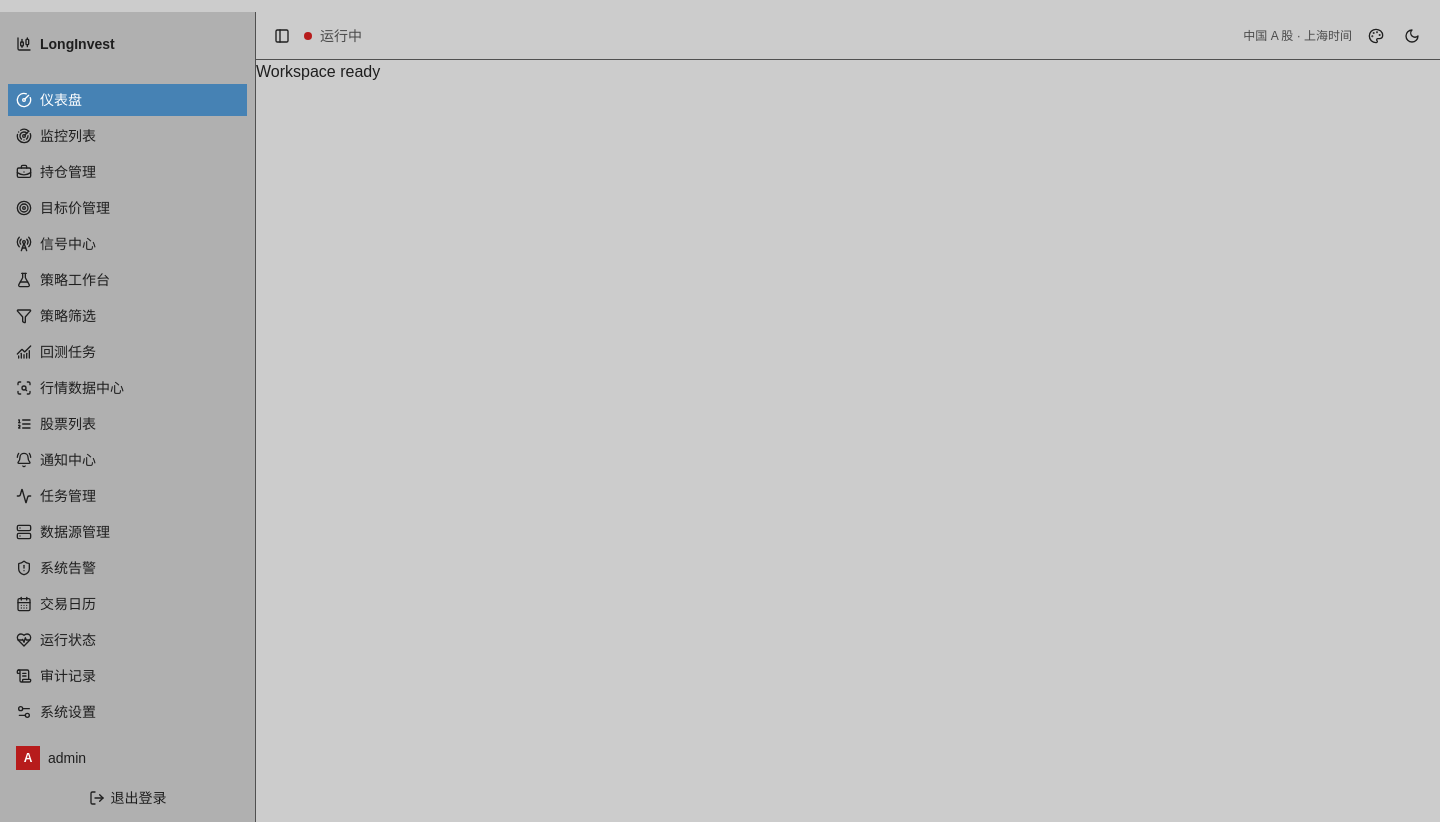
Scenario: 登录和会话启动 › 有效会话直接进入工作台，并可退出
This screenshot has width=1440, height=822.
Expected: the text "Workspace ready" is shown, 256,63 -> 380,80
Click the button "退出登录": (128, 798) 8,782 -> 247,814
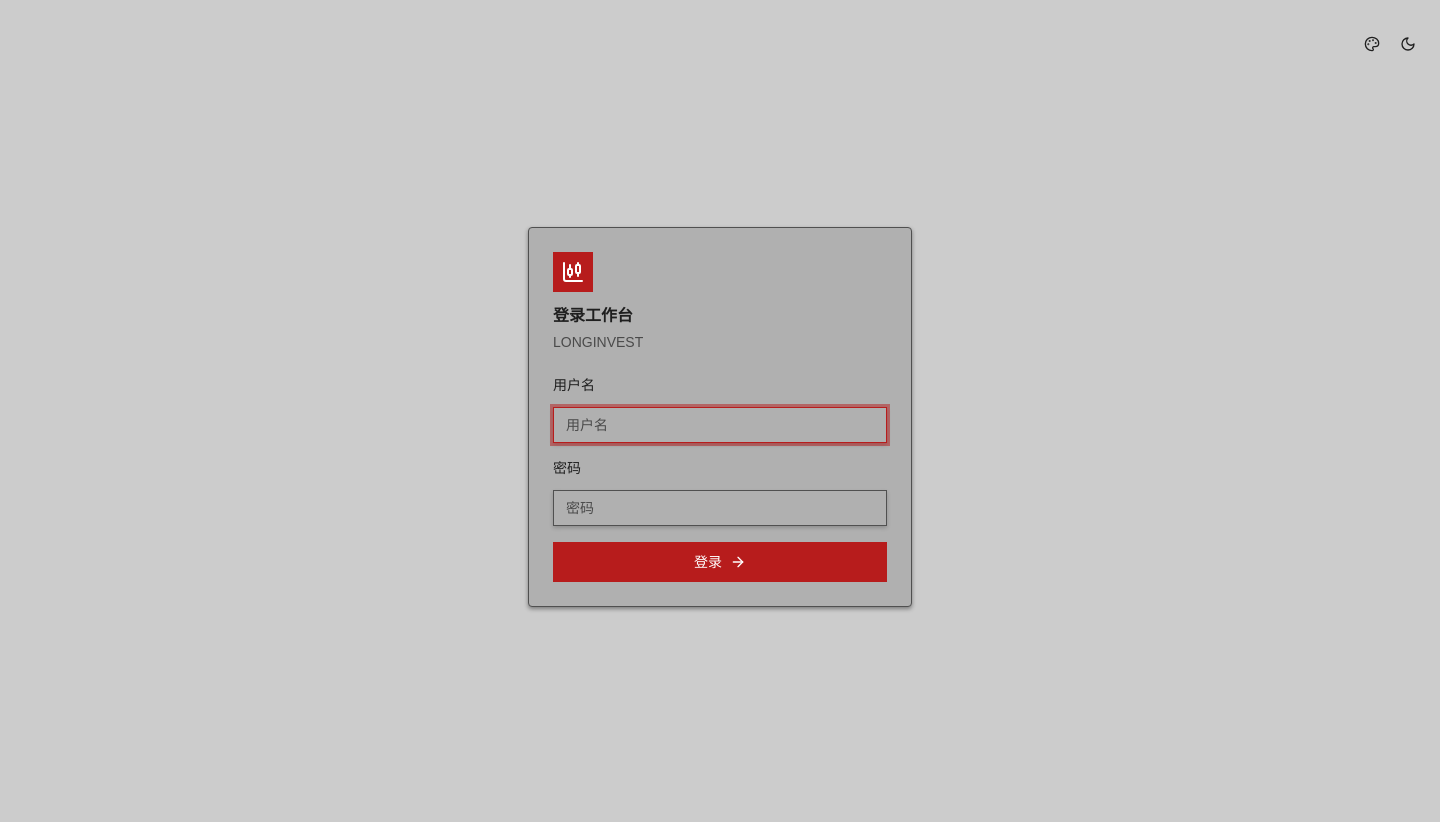
Now the heading "登录工作台" is shown, box 553,307 -> 633,324
